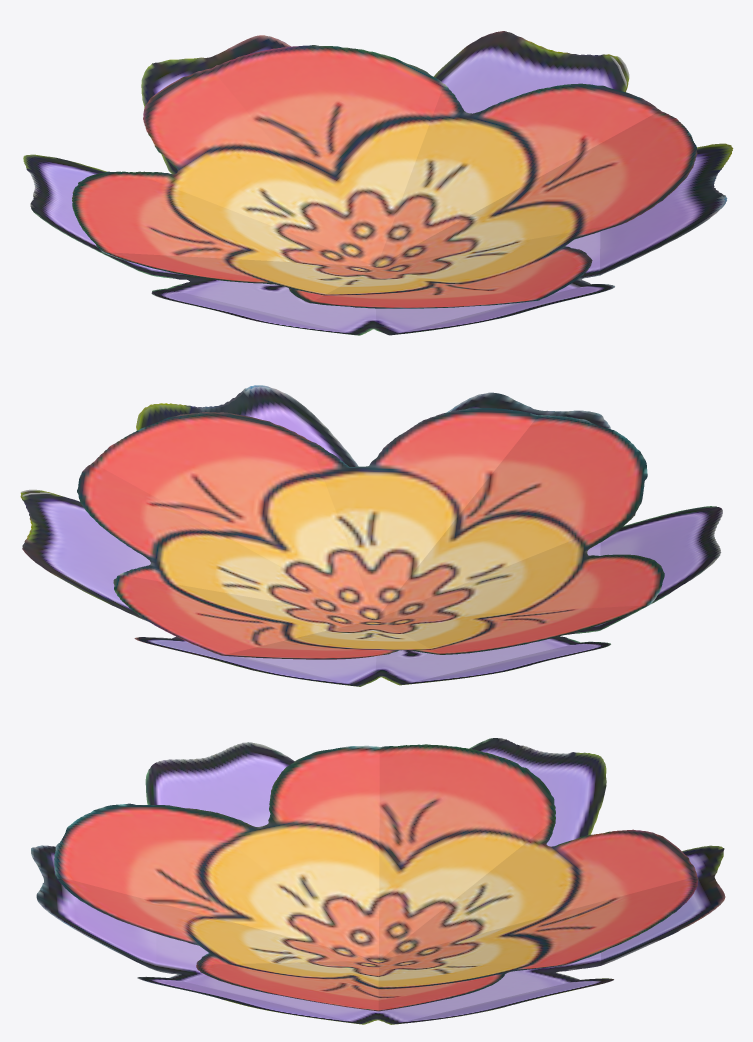
Rendered from Flowers.fbx.
3 views of the same model, one above another, from view 1: azimuth 30°, elevation 25°; view 2: azimuth 150°, elevation 25°; view 3: azimuth 270°, elevation 25° (orthographic).
Parts seen in each view (by area): view 1: Flower_03, Flower_01, Flower_02; view 2: Flower_03, Flower_01, Flower_02; view 3: Flower_03, Flower_01, Flower_02.
Boxes of the visible parts, x1=… form: Flower_03: x1=72, y1=45, x2=697, y2=308; Flower_01: x1=23, y1=32, x2=730, y2=335; Flower_02: x1=66, y1=31, x2=733, y2=335; Flower_03: x1=77, y1=408, x2=664, y2=659; Flower_01: x1=22, y1=386, x2=722, y2=686; Flower_02: x1=20, y1=385, x2=676, y2=685; Flower_03: x1=54, y1=744, x2=697, y2=1011; Flower_01: x1=31, y1=738, x2=724, y2=1024; Flower_02: x1=31, y1=788, x2=725, y2=1024.
Size of the model in its own units: 1.98 by 0.2948 by 1.98.
